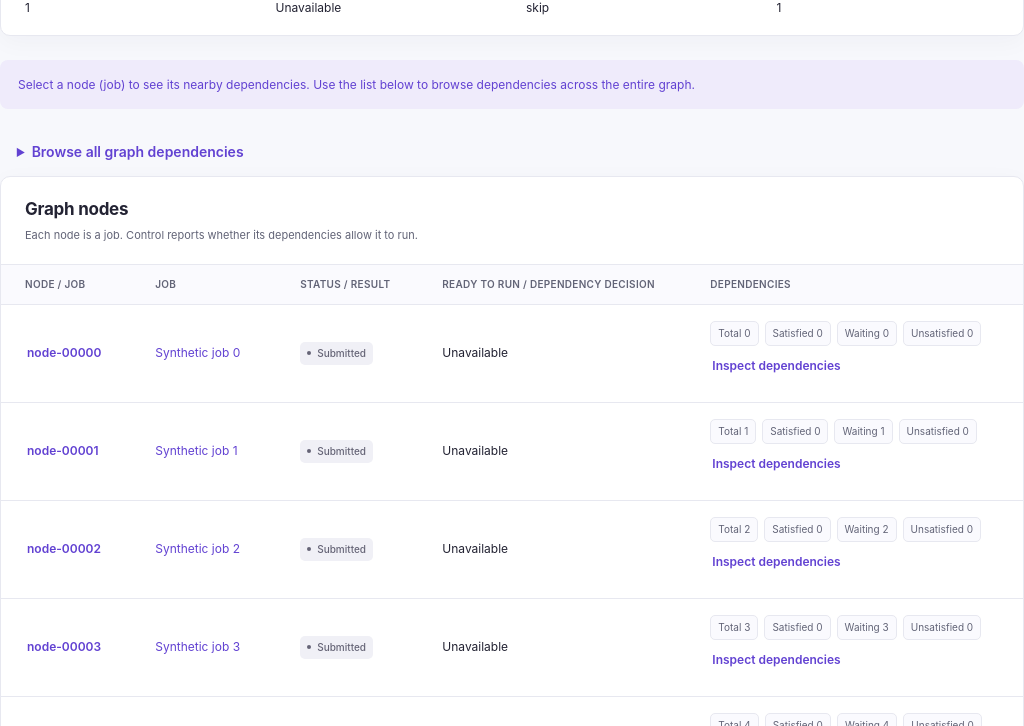
Scenario: replaces dependency pages and resets the cursor when direction changes
(page scrolled)
Click the button "node-00000": (64, 353) [25,333,103,373]
(page scrolled)
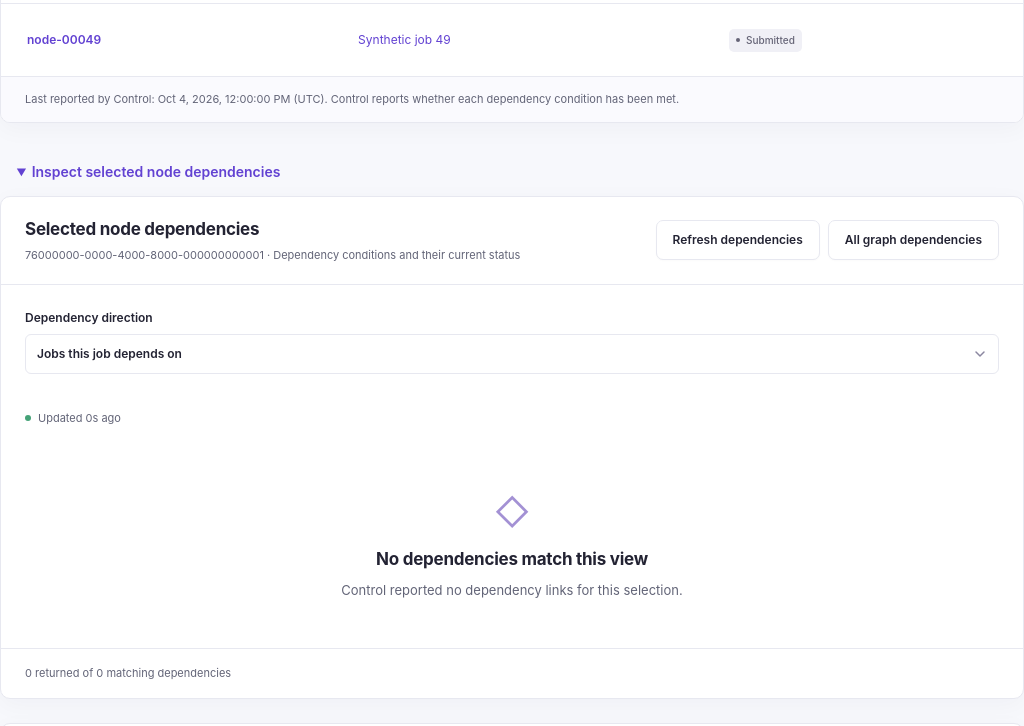
Select "Jobs that depend on this job" in the dropdown labelled "Dependency direction": (512, 354) [25,334,999,374]
(page scrolled)
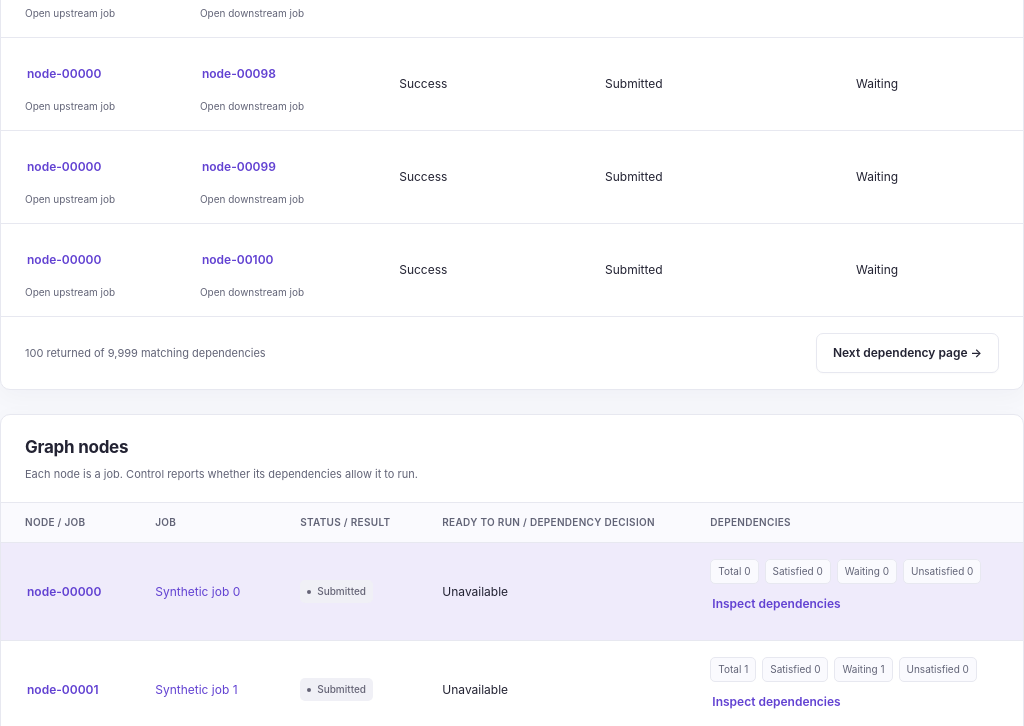
Now the text "100 returned of 9,999 matching dependencies" is shown, box [25,345,266,361]
Click the button "Next dependency page →": (907, 353) [816,333,999,373]
(page scrolled)
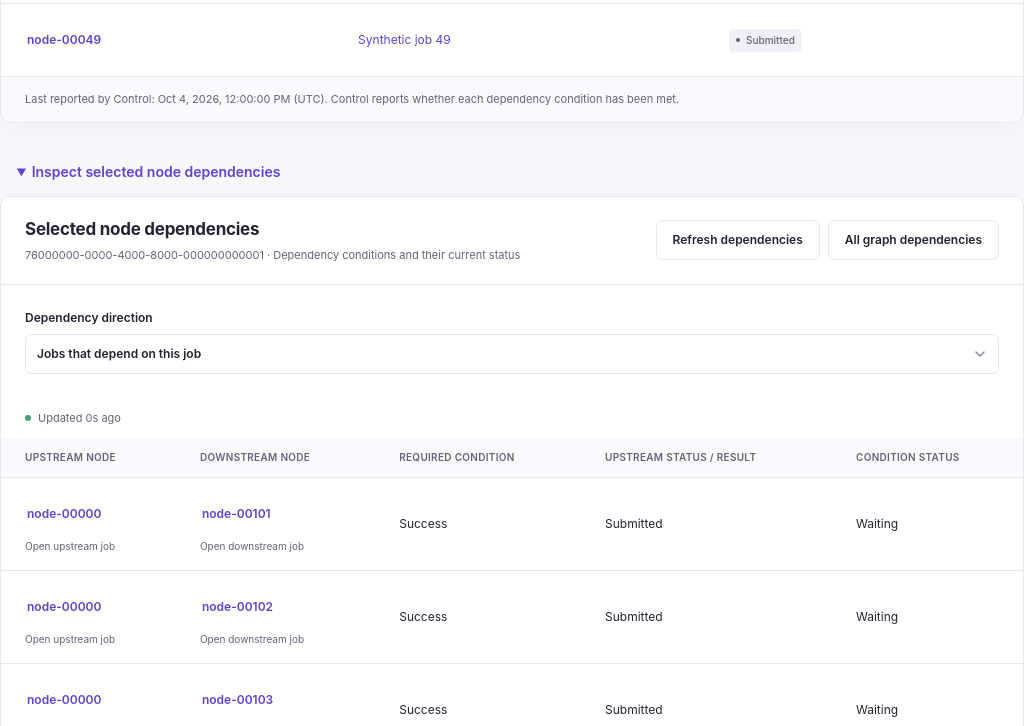
Expected: the text "node-00001" is not shown
Select "Jobs this job depends on" in the dropdown labelled "Dependency direction": (512, 354) [25,334,999,374]
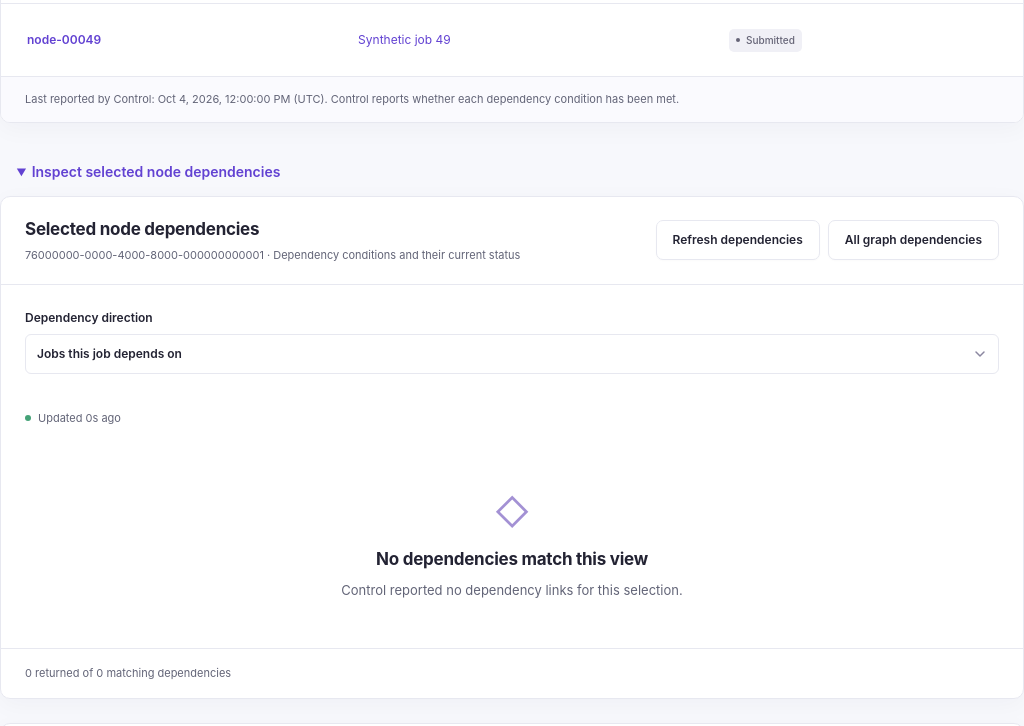
Now the heading "No dependencies match this view" is shown, box [376,549,648,569]
